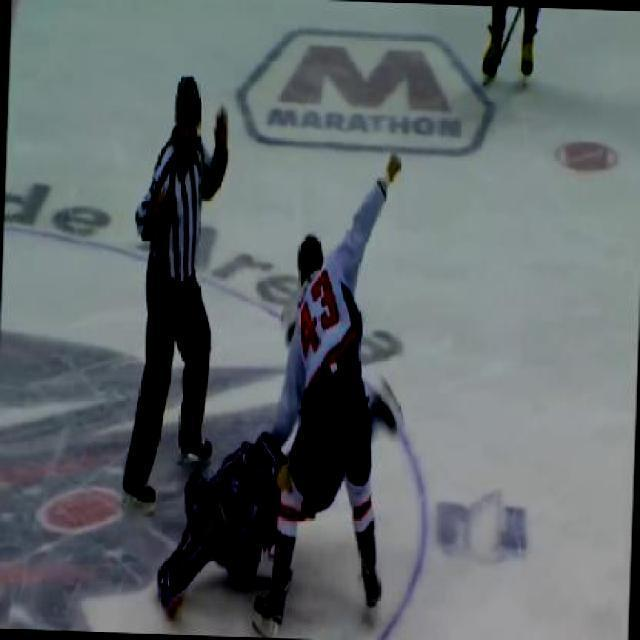fight: (236, 146, 407, 639)
non-fight: (128, 72, 232, 476)
